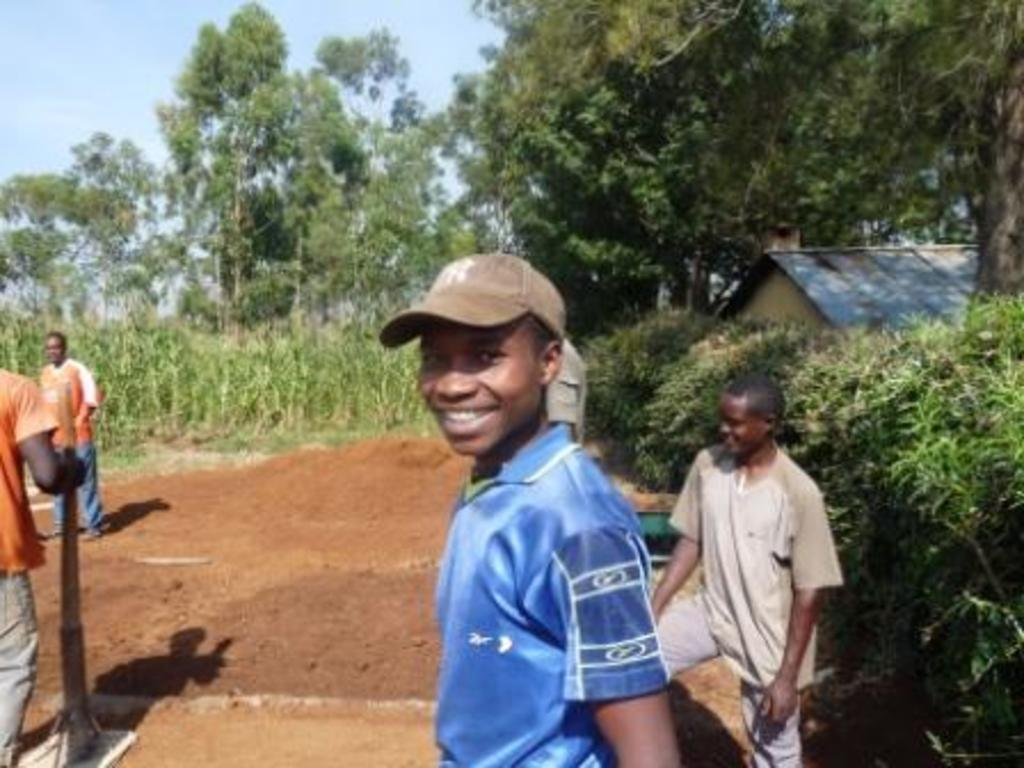Hat: (379, 255, 564, 349)
